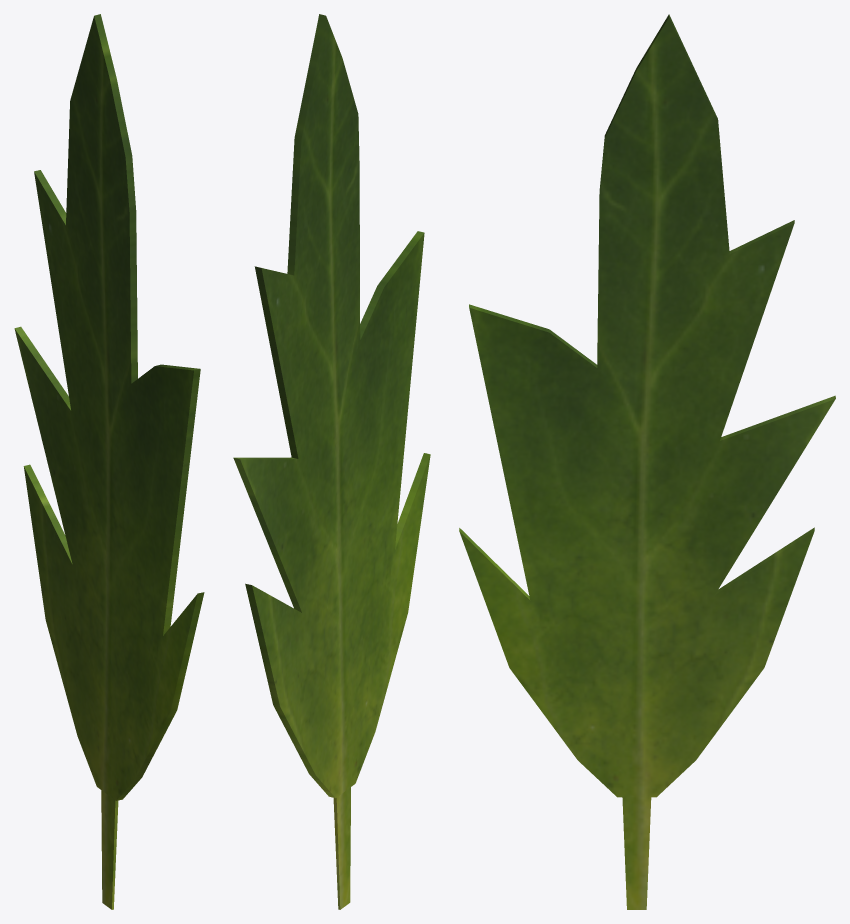
The model's file is Leaf3Cut2.fbx.
3 views of the same model, side by side, from view 1: azimuth 30°, elevation 25°; view 2: azimuth 150°, elevation 25°; view 3: azimuth 270°, elevation 25° (orthographic). The views are drawn at different scales.
Visible parts, largest first — view 1: leaf3Cut2; view 2: leaf3Cut2; view 3: leaf3Cut2.
Part boxes in pixels (box(x1,y1,x2,y2)): leaf3Cut2: box(14, 14, 204, 909); leaf3Cut2: box(233, 14, 430, 909); leaf3Cut2: box(459, 14, 835, 909).
Bounding box in the file's own units: 0.4878 × 34.14 × 13.
